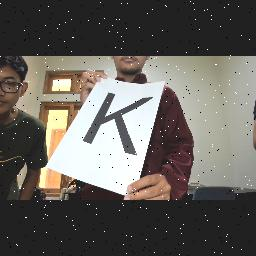k: (77, 87, 149, 159)
